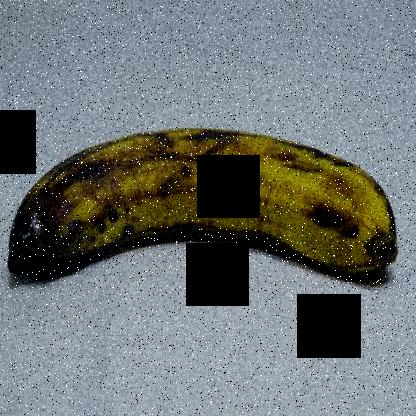overripe: (1, 127, 404, 294)
